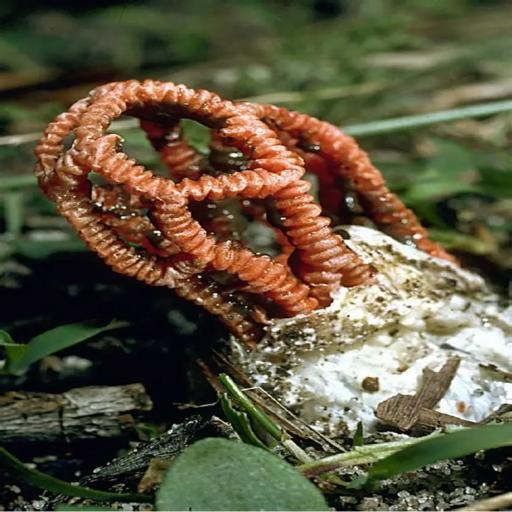mushroom: (1, 0, 481, 421)
